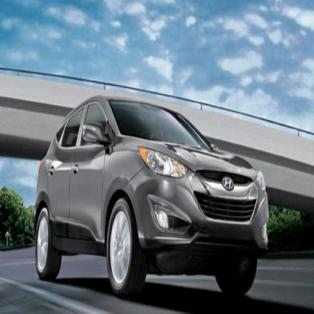Auto: (34, 92, 269, 297)
